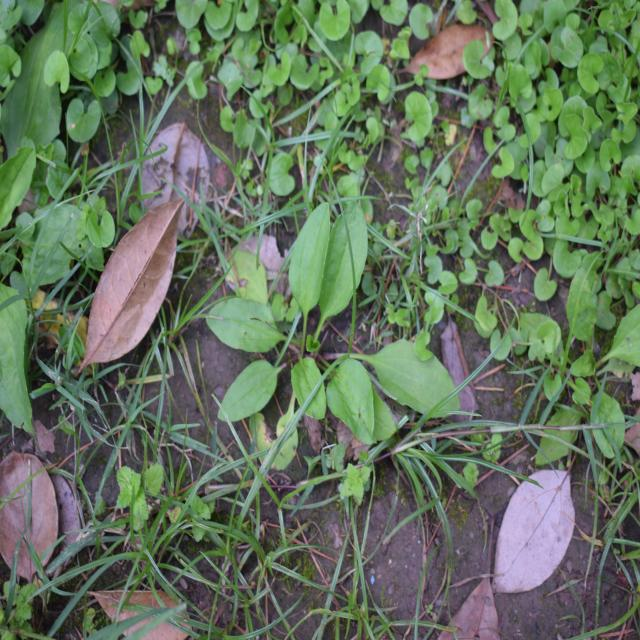plantain: (235, 203, 449, 464)
